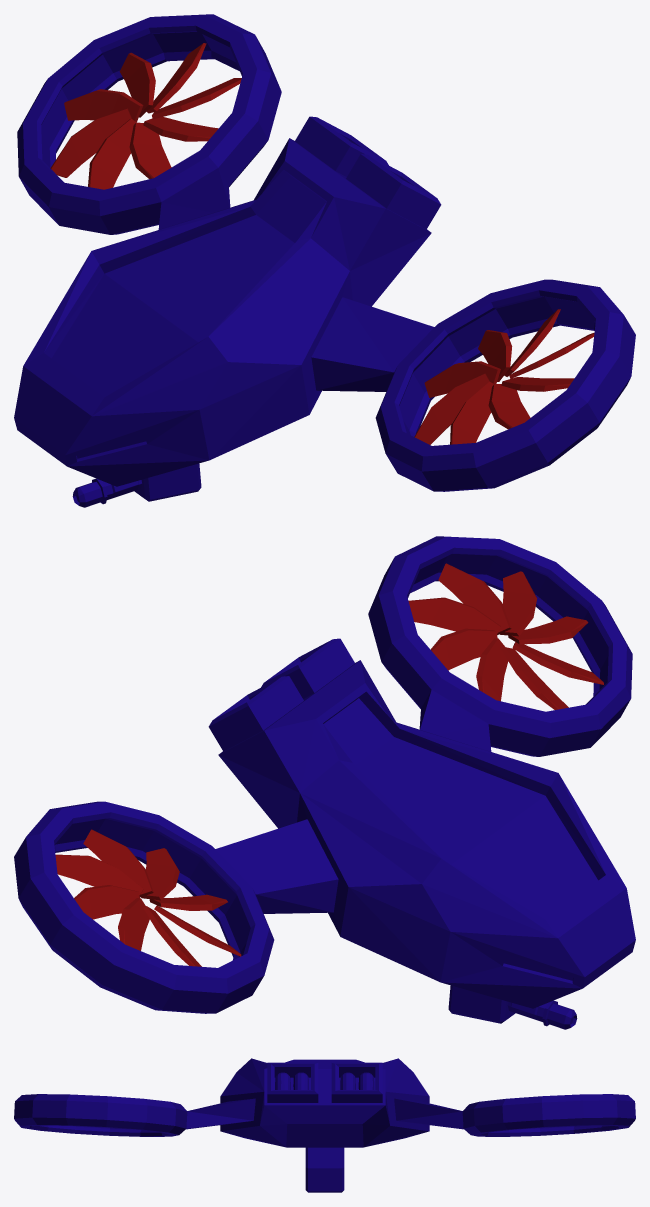
File: drone.obj
3 views of the same model, one above another, from view 1: azimuth 30°, elevation 25°; view 2: azimuth 150°, elevation 25°; view 3: azimuth 270°, elevation 25° (orthographic). The views are drawn at different scales.
Parts seen in each view (by area): view 1: textureEditorIsolateSelectSet polySurface9 pCylinder10, textureEditorIsolateSelectSet polySurface11, textureEditorIsolateSelectSet polySurface12, polySurface9 pCylinder10; view 2: textureEditorIsolateSelectSet polySurface9 pCylinder10, textureEditorIsolateSelectSet polySurface12, textureEditorIsolateSelectSet polySurface11, polySurface9 pCylinder10; view 3: textureEditorIsolateSelectSet polySurface9 pCylinder10.
Part boxes in pixels (x1,y1,x2,y2): textureEditorIsolateSelectSet polySurface9 pCylinder10: [14, 14, 635, 507]; textureEditorIsolateSelectSet polySurface11: [50, 43, 241, 189]; textureEditorIsolateSelectSet polySurface12: [414, 309, 594, 444]; polySurface9 pCylinder10: [51, 274, 197, 397]; textureEditorIsolateSelectSet polySurface9 pCylinder10: [14, 536, 635, 1029]; textureEditorIsolateSelectSet polySurface12: [408, 563, 603, 709]; textureEditorIsolateSelectSet polySurface11: [55, 829, 241, 966]; polySurface9 pCylinder10: [452, 796, 598, 919]; textureEditorIsolateSelectSet polySurface9 pCylinder10: [14, 1058, 635, 1192].
Bounding box in the file's own units: 2.77 × 1.95 × 5.95.
